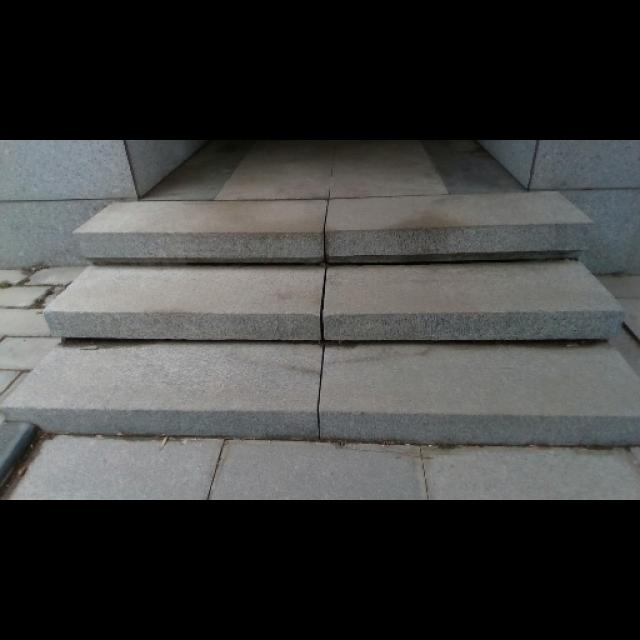Stairs: (1, 142, 638, 496)
